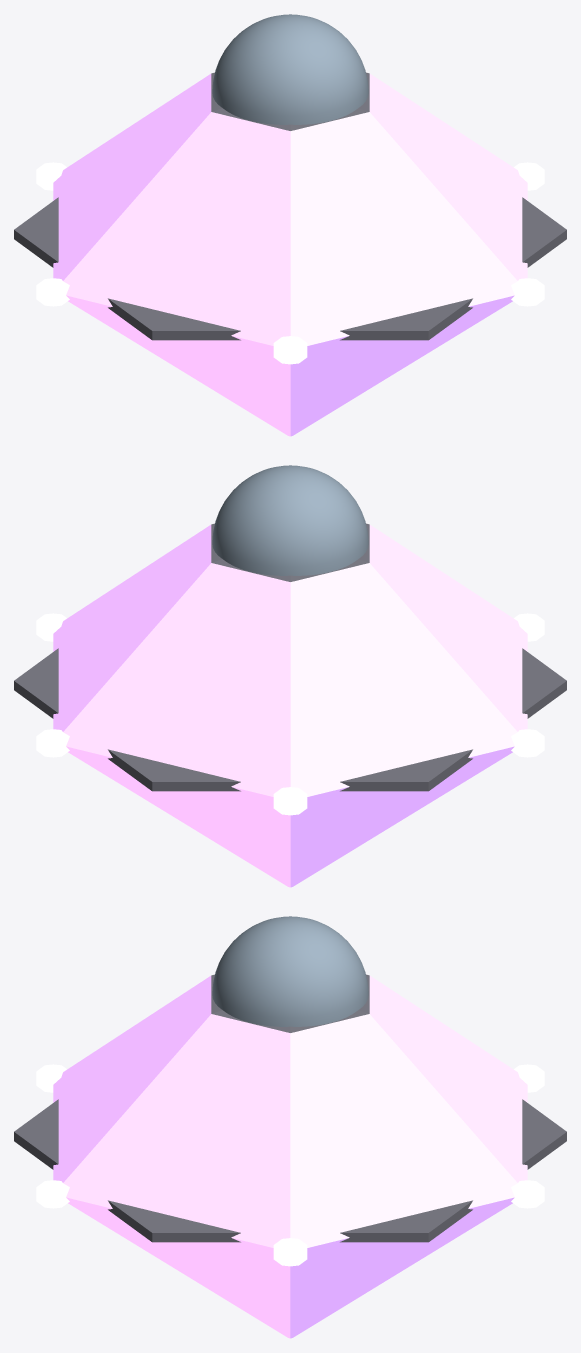
The model's file is diamond.glb.
3 renders of one model, top to bottom at view 1: azimuth 30°, elevation 25°; view 2: azimuth 150°, elevation 25°; view 3: azimuth 270°, elevation 25°, orthographic.
Visible parts, largest first — view 1: diamond, dome.008; view 2: diamond, dome.008; view 3: diamond, dome.008.
Boxes of the visible parts, left/top/right/bottom form: diamond: left=14, top=72, right=566, bottom=436; dome.008: left=212, top=14, right=368, bottom=124; diamond: left=14, top=523, right=566, bottom=887; dome.008: left=212, top=465, right=368, bottom=575; diamond: left=14, top=974, right=566, bottom=1338; dome.008: left=212, top=916, right=368, bottom=1026.
Size of the model in its own units: 4.42 by 3.5 by 4.24.
